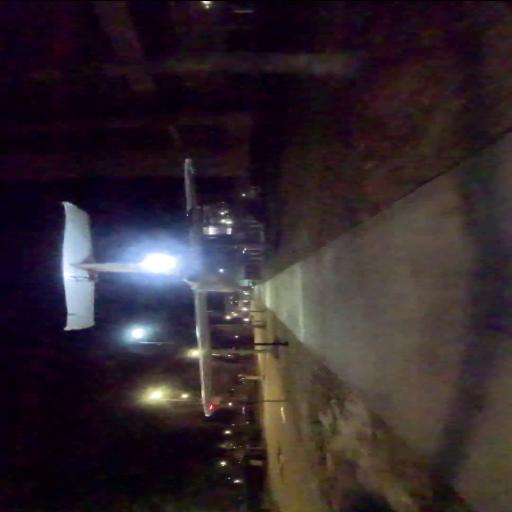uav: (53, 154, 251, 418)
